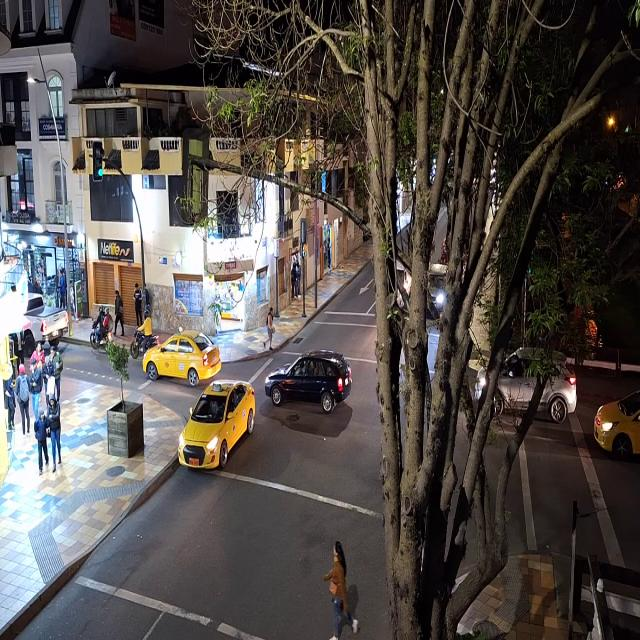MOTORCYCLE: (130, 330, 160, 360), (90, 324, 114, 352)
SED: (179, 383, 248, 468), (143, 331, 220, 382)
SUV: (477, 352, 576, 418), (267, 354, 350, 406)
